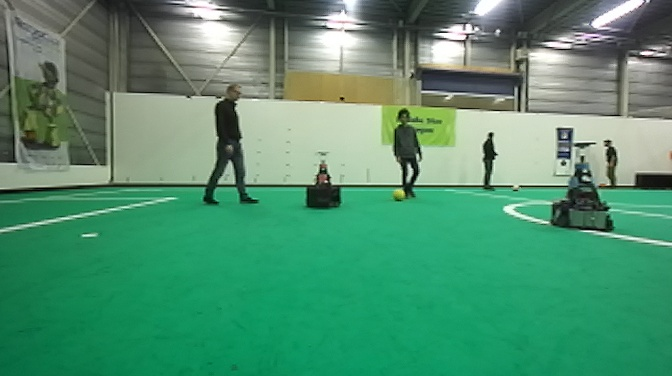ball: (390, 186, 406, 203), (598, 182, 608, 193), (510, 182, 520, 193)
human: (202, 82, 259, 207), (391, 108, 423, 201), (480, 129, 501, 191), (602, 137, 621, 190)
robot: (549, 139, 616, 234), (303, 150, 341, 211)
